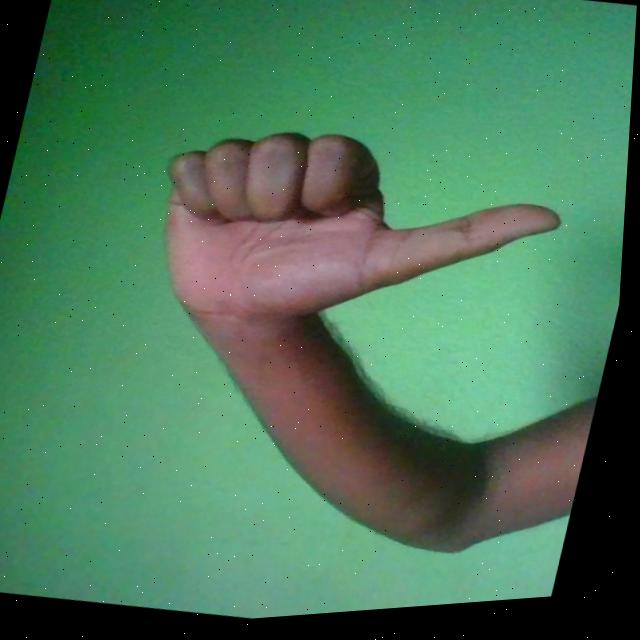Dislike: (131, 95, 581, 384)
